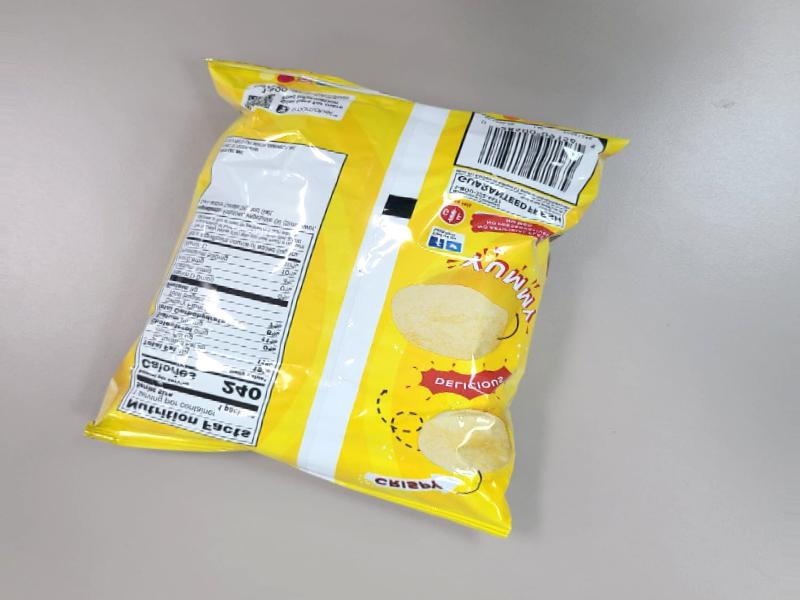lays: (177, 14, 605, 569)
